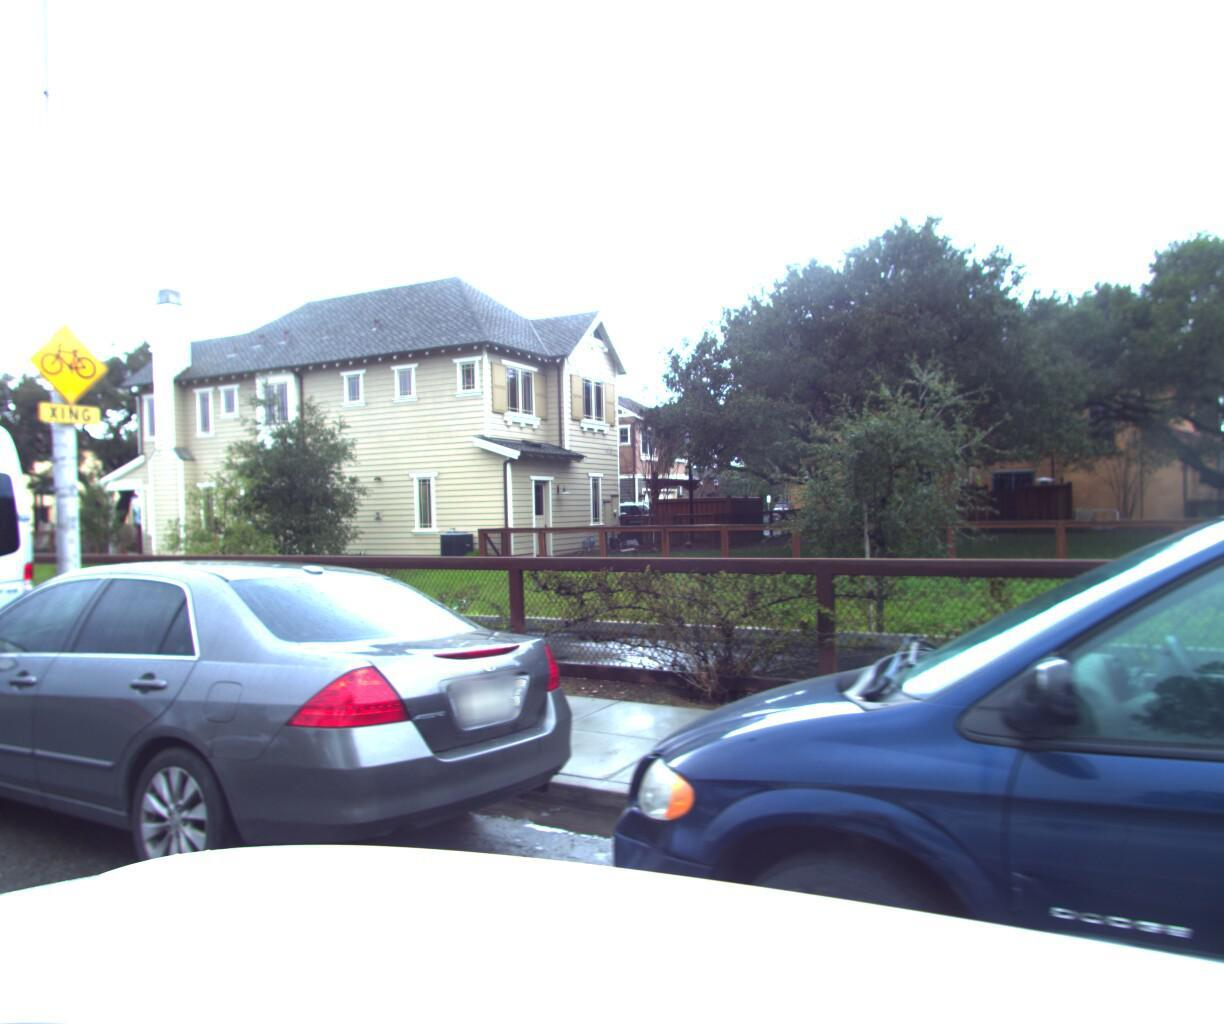car: (444, 0, 1224, 1024), (0, 542, 610, 1005)
other_vehicle: (0, 354, 59, 775)
